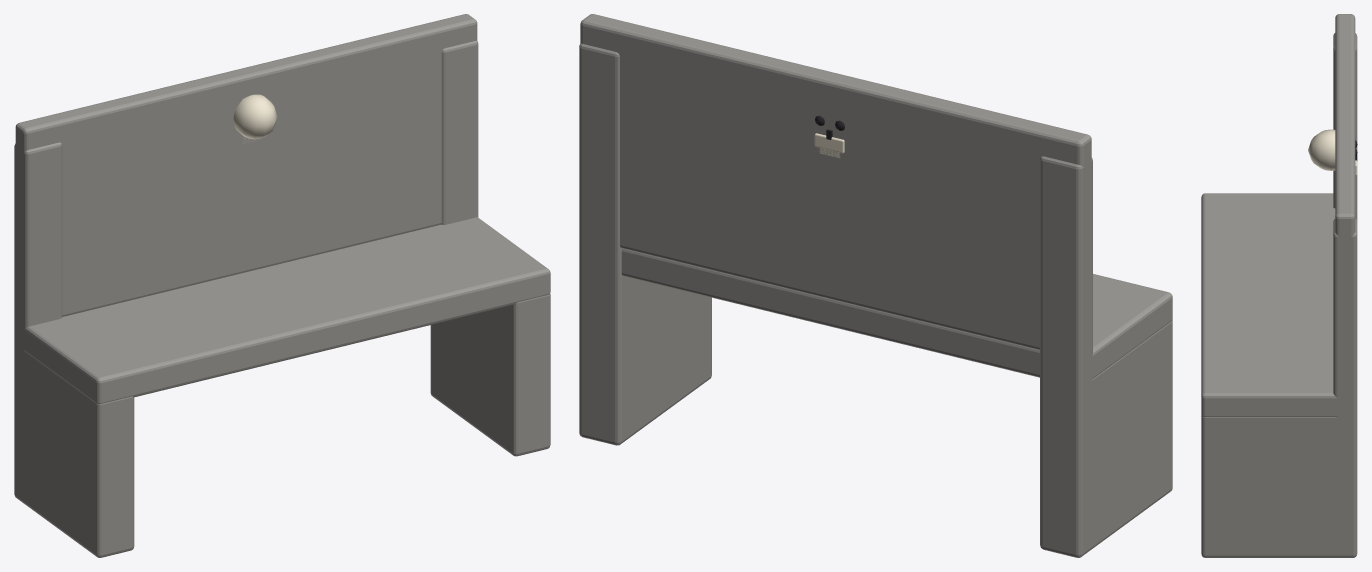
Rendered from pew_stone.glb.
The picture shows the model from 3 angles, left to right: view 1: azimuth 30°, elevation 25°; view 2: azimuth 150°, elevation 25°; view 3: azimuth 270°, elevation 25°; orthographic projection. The views are drawn at different scales.
Parts seen in each view (by area): view 1: GD_pew_stone__m0, GD_pew_stone__m2; view 2: GD_pew_stone__m0; view 3: GD_pew_stone__m0, GD_pew_stone__m2.
Part boxes in pixels (x1=…): GD_pew_stone__m0: x1=14, y1=14, x2=550, y2=557; GD_pew_stone__m2: x1=233, y1=94, x2=277, y2=143; GD_pew_stone__m0: x1=579, y1=14, x2=1172, y2=557; GD_pew_stone__m0: x1=1201, y1=14, x2=1357, y2=557; GD_pew_stone__m2: x1=1308, y1=129, x2=1357, y2=175.
Bounding box in the file's own units: 1.2 × 0.95 × 0.391.
